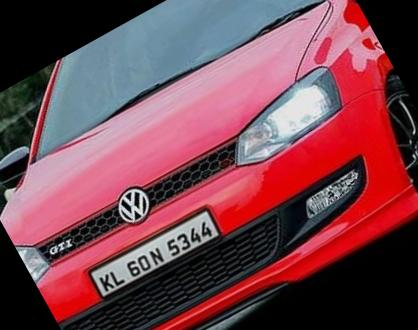plate: (87, 195, 231, 303)
